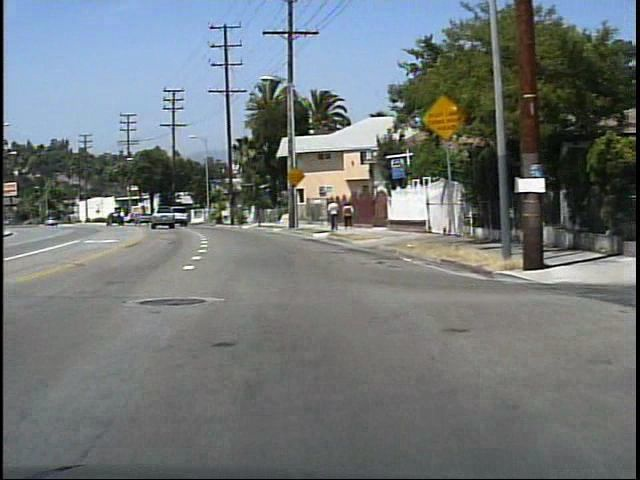person: (326, 196, 342, 234), (339, 200, 354, 231)
